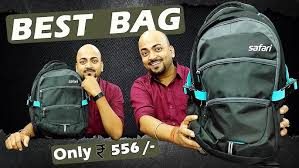backpack: (185, 1, 297, 164), (26, 59, 89, 138)
